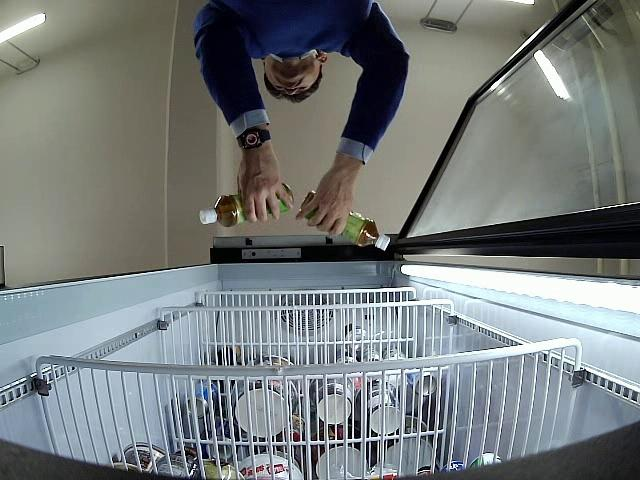00_hand: (297, 159, 359, 237), (237, 152, 293, 225)
19_17cha: (300, 187, 391, 253), (200, 181, 296, 227)
